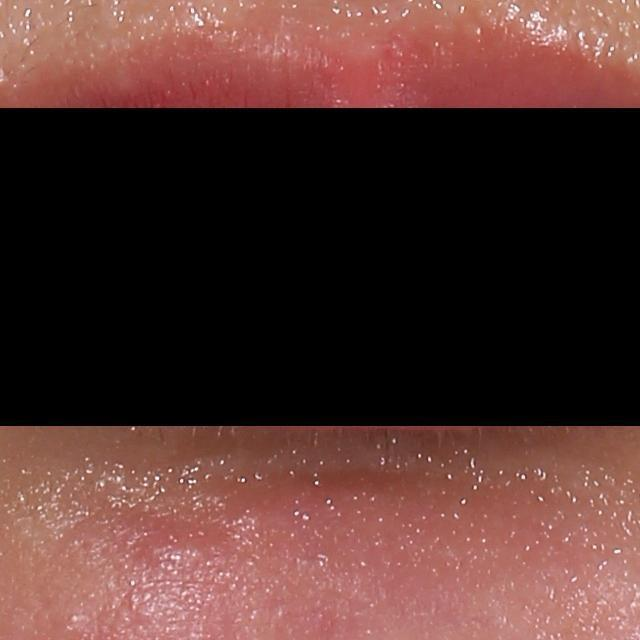papule: (137, 525, 211, 577)
